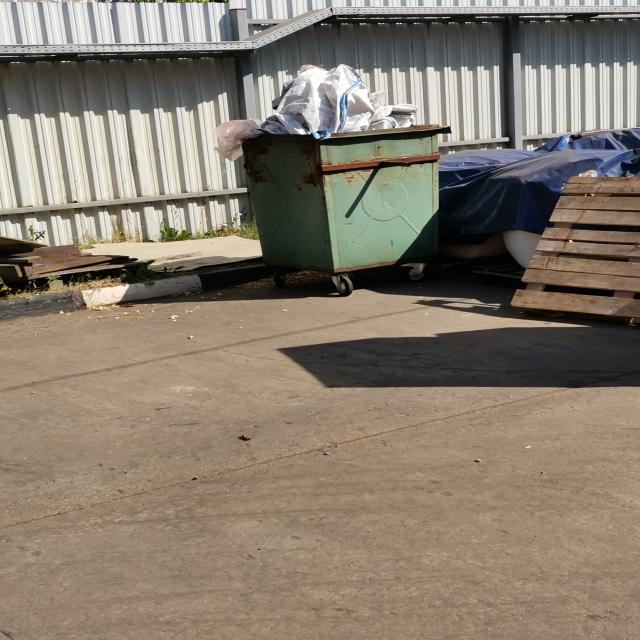bin: (236, 128, 446, 274)
trash: (262, 65, 423, 130)
